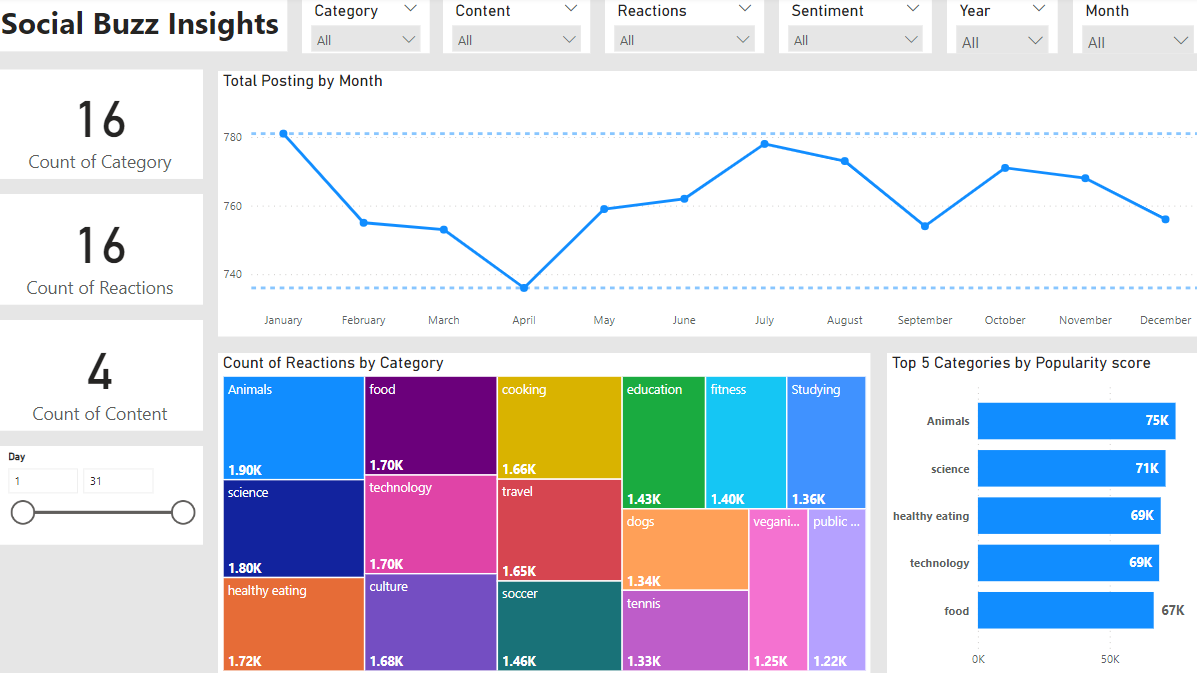

The dashboard page shown, as its layout file describes it:
{"tool":"powerbi","page":{"name":"Page 1","canvas":[1280,720],"ordinal":0},"visuals":[{"type":"textbox","box":[0,0,308.3,58.8],"z":0},{"type":"barChart","title":"Top 5 Categories by Popularity score","fields":{"Y":["Sum(Social_Buzz.Score)"],"Category":["Social_Buzz.Category"]},"box":[944.9,378,334.5,342],"z":1000},{"type":"card","fields":{"Values":["Count(Social_Buzz.Category)"]},"box":[0,77.9,219.3,116],"z":2000},{"type":"treemap","title":"Count of Reactions by Category","fields":{"Group":["Social_Buzz.Category"],"Values":["CountNonNull(Social_Buzz.Reactions_type)"]},"box":[235.2,378.3,691.4,341.7],"z":3000},{"type":"card","fields":{"Values":["Count(Social_Buzz.Content_type)"]},"box":[0,343.3,219.3,117.6],"z":4000},{"type":"card","fields":{"Values":["Count(Social_Buzz.Reactions_type)"]},"box":[0,209.8,219.3,117.6],"z":5000},{"type":"lineChart","title":"Total Posting by Month","fields":{"Category":["Social_Buzz.Datetime.Variation.Date Hierarchy.Month"],"Y":["Count(Social_Buzz.Content_ID)"]},"box":[235.2,79.5,1042.6,281.3],"z":6000},{"type":"slicer","fields":{"Values":["Social_Buzz.Category"]},"box":[324.2,0,135.1,60.4],"z":7000},{"type":"slicer","fields":{"Values":["Social_Buzz.Content_type"]},"box":[473.6,0,155.8,60.4],"z":8000},{"type":"slicer","fields":{"Values":["Social_Buzz.Reactions_type"]},"box":[645.3,0,168.5,60.4],"z":9000},{"type":"slicer","fields":{"Values":["Social_Buzz.Sentiment"]},"box":[829.7,0,162.1,60.4],"z":10000},{"type":"slicer","fields":{"Values":["Social_Buzz.Datetime.Variation.Date Hierarchy.Year"]},"box":[1007.7,0,117.6,60.4],"z":11000},{"type":"slicer","fields":{"Values":["Social_Buzz.Datetime.Variation.Date Hierarchy.Month"]},"box":[1141.2,0,138.3,60.4],"z":12000},{"type":"slicer","fields":{"Values":["Social_Buzz.Datetime.Variation.Date Hierarchy.Day"]},"box":[0,476.8,219.3,104.9],"z":13000}]}

Visuals, with their boxes in screenshot pixels (x1, y1, x2, y2), scaled from the page's 1280x720 canvas onto the 1197x673 screenshot:
textbox: region(0, 0, 288, 55)
"Top 5 Categories by Popularity score" barChart: region(884, 353, 1196, 672)
card - Count(Social_Buzz.Category): region(0, 73, 205, 181)
"Count of Reactions by Category" treemap: region(220, 354, 867, 672)
card - Count(Social_Buzz.Content_type): region(0, 321, 205, 431)
card - Count(Social_Buzz.Reactions_type): region(0, 196, 205, 306)
"Total Posting by Month" lineChart: region(220, 74, 1195, 337)
slicer - Social_Buzz.Category: region(303, 0, 430, 56)
slicer - Social_Buzz.Content_type: region(443, 0, 589, 56)
slicer - Social_Buzz.Reactions_type: region(603, 0, 761, 56)
slicer - Social_Buzz.Sentiment: region(776, 0, 927, 56)
slicer - Social_Buzz.Datetime.Variation.Date Hierarchy.Year: region(942, 0, 1052, 56)
slicer - Social_Buzz.Datetime.Variation.Date Hierarchy.Month: region(1067, 0, 1196, 56)
slicer - Social_Buzz.Datetime.Variation.Date Hierarchy.Day: region(0, 446, 205, 544)
